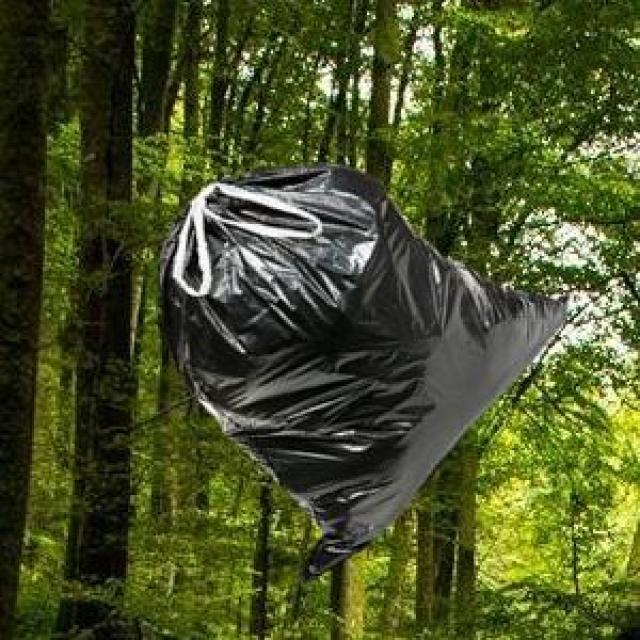waste: (161, 166, 566, 577)
